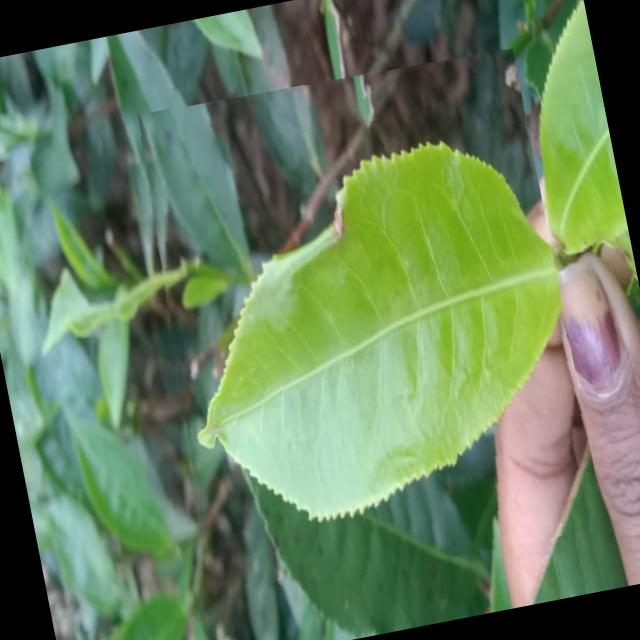Category B(2-4 days): (120, 42, 606, 602)
